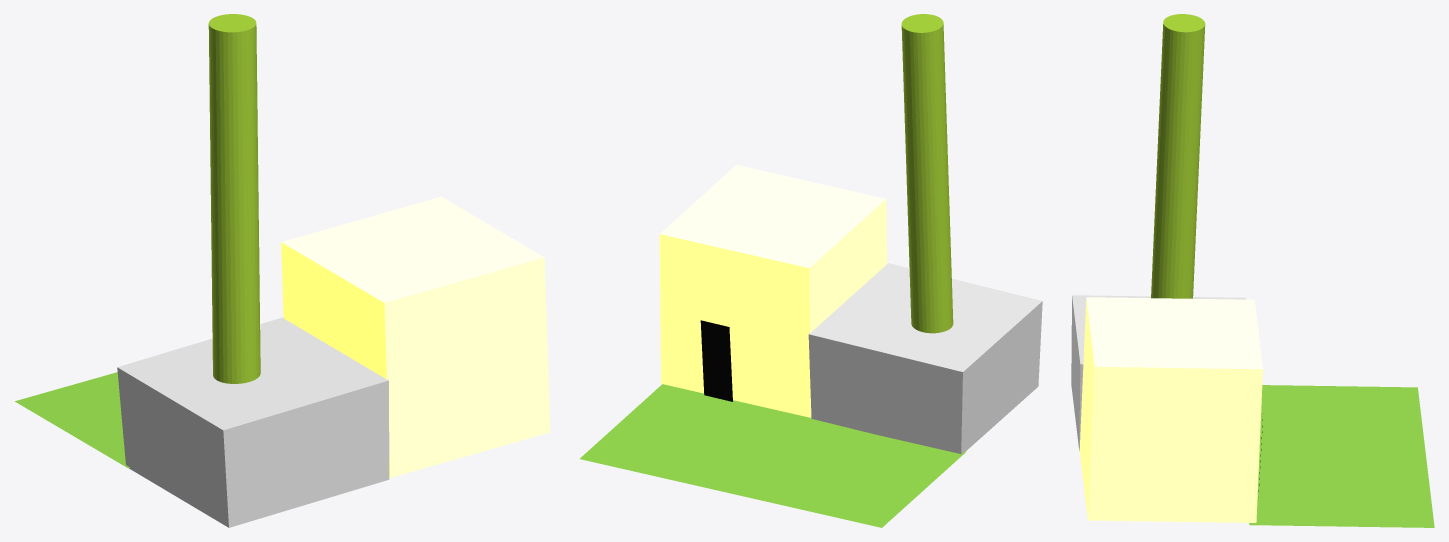
3 views of the same model, side by side, from view 1: azimuth 30°, elevation 25°; view 2: azimuth 150°, elevation 25°; view 3: azimuth 270°, elevation 25° (orthographic). The views are drawn at different scales.
Parts seen in each view (by area): view 1: Cube, Cube.001, Cylinder, Plane; view 2: Cube, Cube.001, Plane, Cylinder, Plane.001; view 3: Cube, Plane, Cylinder, Cube.001.
Part boxes in pixels (x1,y1,x2,y2): Cube: (281, 196, 550, 477); Cube.001: (117, 317, 389, 527); Cylinder: (208, 14, 260, 383); Plane: (15, 372, 129, 468); Cube: (659, 165, 886, 417); Cube.001: (808, 263, 1042, 453); Plane: (580, 384, 966, 527); Cylinder: (901, 14, 953, 333); Plane.001: (700, 320, 732, 401); Cube: (1079, 297, 1262, 522); Plane: (1249, 385, 1434, 527); Cylinder: (1151, 14, 1205, 298); Cube.001: (1071, 295, 1245, 451).
Size of the model in its own units: 4.23 by 5.26 by 4.31.
